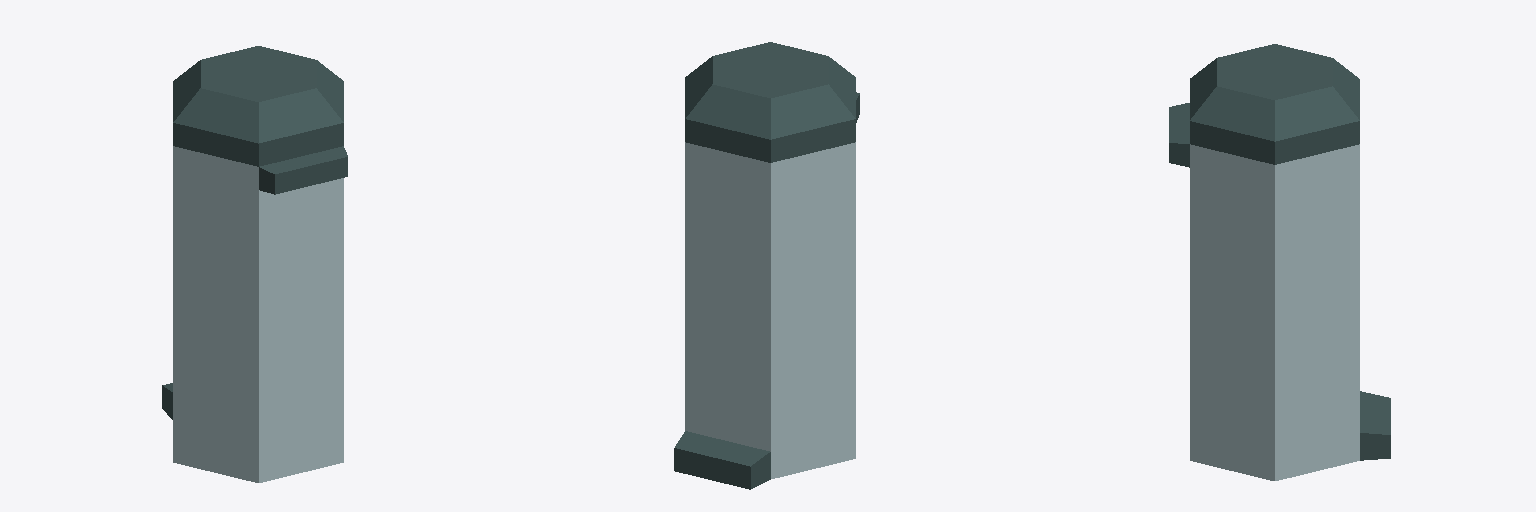
Rendered from trashcan.obj.
3 views of the same model, side by side, from view 1: azimuth 30°, elevation 25°; view 2: azimuth 150°, elevation 25°; view 3: azimuth 270°, elevation 25° (orthographic).
Visible parts, largest first — view 1: trashcan; view 2: trashcan; view 3: trashcan.
Part boxes in pixels (bbox=[...]): trashcan: bbox=[162, 46, 347, 482]; trashcan: bbox=[674, 42, 859, 489]; trashcan: bbox=[1169, 44, 1390, 480].
Size of the model in its own units: 0.2077 by 0.4279 by 0.2341.